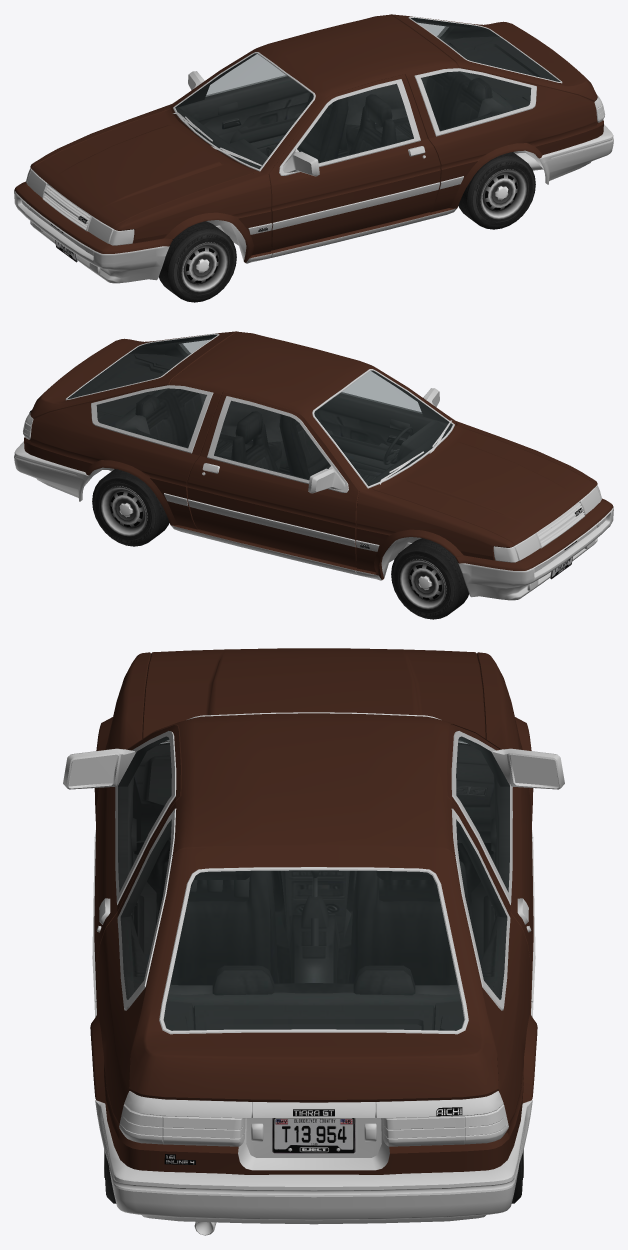
File: TiaraGT83.fbx
The picture shows the model from 3 angles, top to bottom: view 1: azimuth 30°, elevation 25°; view 2: azimuth 150°, elevation 25°; view 3: azimuth 270°, elevation 25°; orthographic projection. The views are drawn at different scales.
Parts seen in each view (by area): view 1: TiaraGT83_Body, TiaraGT83_Interior, TiaraGT83_Hood, TiaraGT83_Glass, TiaraGT83_Bottom, TiaraGT83_Windshield, TiaraGT83_Wheel_FR, TiaraGT83_Wheel_RR, TiaraGT83_Trunkdoor, TiaraGT83_Bumper_Front_inner, TiaraGT83_Trunkdoor_Glass, TiaraGT83_Bumper_Front (+4 smaller); view 2: TiaraGT83_Body, TiaraGT83_Interior, TiaraGT83_Hood, TiaraGT83_Glass, TiaraGT83_Bottom, TiaraGT83_Windshield, TiaraGT83_Wheel_FL, TiaraGT83_Wheel_RL, TiaraGT83_Trunkdoor, TiaraGT83_Bumper_Front_inner, TiaraGT83_Trunkdoor_Glass, TiaraGT83_Bumper_Front (+4 smaller); view 3: TiaraGT83_Body, TiaraGT83_Interior, TiaraGT83_Trunkdoor_Glass, TiaraGT83_Trunkdoor, TiaraGT83_Bottom, TiaraGT83_Hood, TiaraGT83_Bumper_rear_Trim, TiaraGT83_Glass, TiaraGT83_Brakelights, TiaraGT83_Bodybadges, TiaraGT83_Trunkdoor_Trim, TiaraGT83_Reverselights (+1 smaller).
Part boxes in pixels (x1,y1,x2,y2): TiaraGT83_Body: (30,14,603,262); TiaraGT83_Interior: (175,20,560,169); TiaraGT83_Hood: (32,108,256,228); TiaraGT83_Glass: (206,23,530,162); TiaraGT83_Bottom: (33,26,602,263); TiaraGT83_Windshield: (175,54,313,168); TiaraGT83_Wheel_FR: (159,221,236,302); TiaraGT83_Wheel_RR: (458,152,535,229); TiaraGT83_Trunkdoor: (390,14,597,101); TiaraGT83_Bumper_Front_inner: (14,190,169,283); TiaraGT83_Trunkdoor_Glass: (411,18,559,81); TiaraGT83_Bumper_Front: (14,181,172,253); TiaraGT83_Body: (24,331,597,579); TiaraGT83_Interior: (67,337,452,486); TiaraGT83_Hood: (371,425,595,545); TiaraGT83_Glass: (97,340,421,479); TiaraGT83_Bottom: (25,343,594,580); TiaraGT83_Windshield: (314,371,452,485); TiaraGT83_Wheel_FL: (391,538,468,619); TiaraGT83_Wheel_RL: (92,469,169,546); TiaraGT83_Trunkdoor: (30,331,237,418); TiaraGT83_Bumper_Front_inner: (458,507,613,600); TiaraGT83_Trunkdoor_Glass: (68,335,216,398); TiaraGT83_Bumper_Front: (455,498,613,570); TiaraGT83_Body: (90,652,537,1174); TiaraGT83_Interior: (118,736,509,1030); TiaraGT83_Trunkdoor_Glass: (164,870,463,1030); TiaraGT83_Trunkdoor: (129,846,498,1102); TiaraGT83_Bottom: (63,712,564,1235); TiaraGT83_Hood: (142,648,485,742); TiaraGT83_Bumper_rear_Trim: (95,1100,532,1224); TiaraGT83_Glass: (118,737,509,999); TiaraGT83_Brakelights: (119,1104,508,1146); TiaraGT83_Bodybadges: (164,1107,462,1164); TiaraGT83_Trunkdoor_Trim: (159,867,468,1034); TiaraGT83_Reverselights: (169,1127,458,1137).
Bounding box in the file's own units: 4167 × 1267 × 1736.
